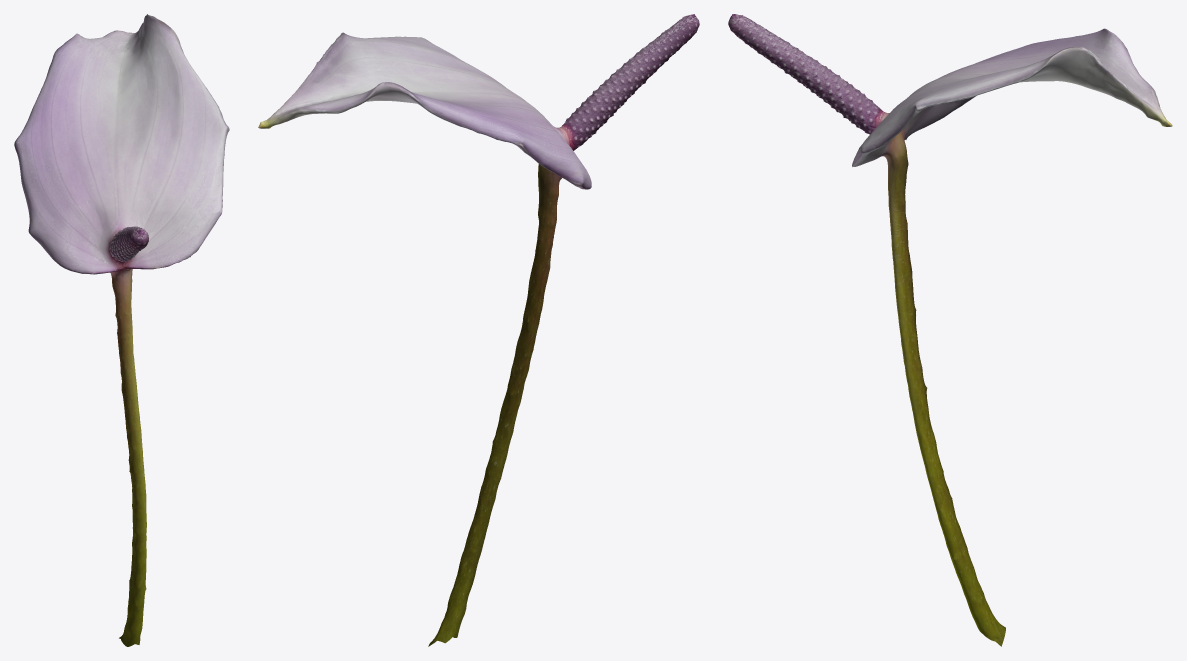
The model's file is anthurium.glb.
3 views of the same model, side by side, from view 1: azimuth 30°, elevation 25°; view 2: azimuth 150°, elevation 25°; view 3: azimuth 270°, elevation 25° (orthographic). The views are drawn at different scales.
Parts seen in each view (by area): view 1: アンスリウム03; view 2: アンスリウム03; view 3: アンスリウム03.
Boxes of the visible parts, left/top/right/bottom form: アンスリウム03: left=14, top=14, right=229, bottom=646; アンスリウム03: left=258, top=14, right=699, bottom=646; アンスリウム03: left=728, top=14, right=1172, bottom=646.
Bounding box in the file's own units: 4.92 × 13.12 × 8.45.
1 material, 1 textured.
